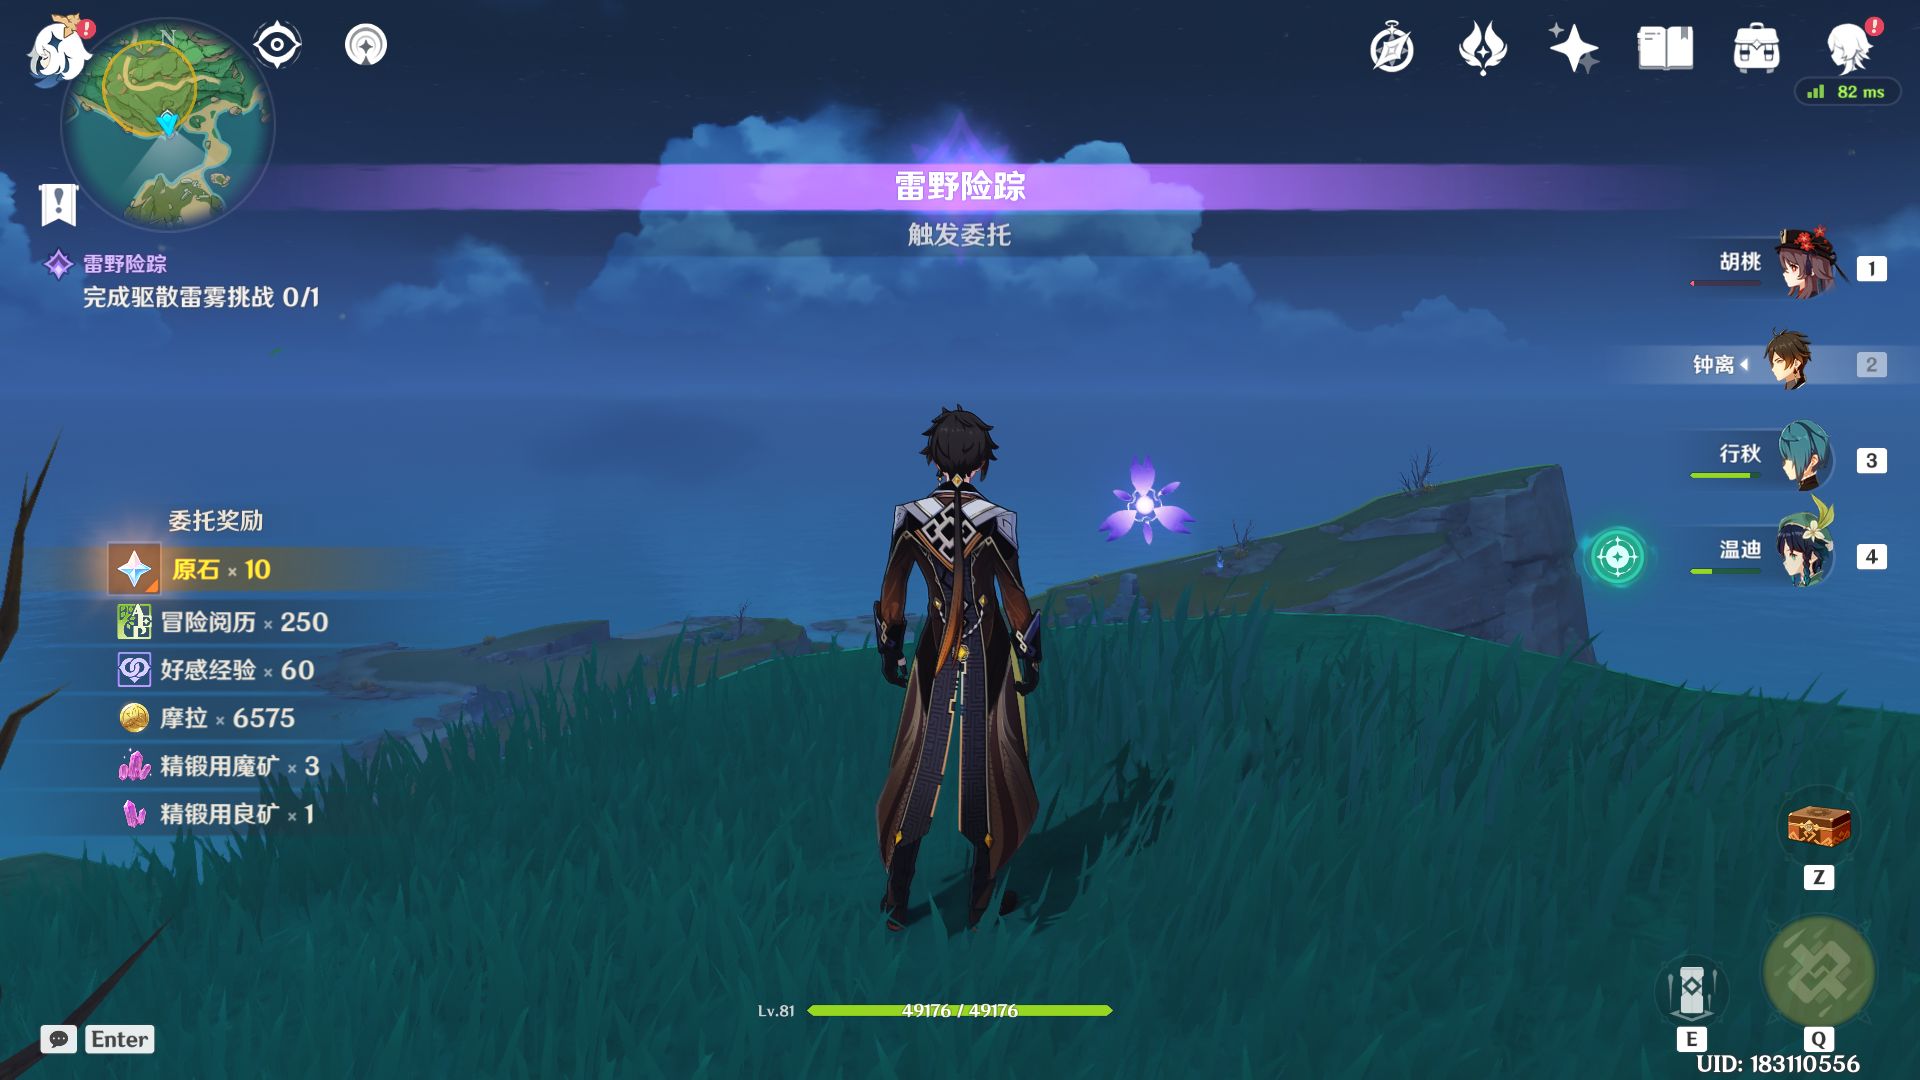character: (825, 377, 1113, 957)
